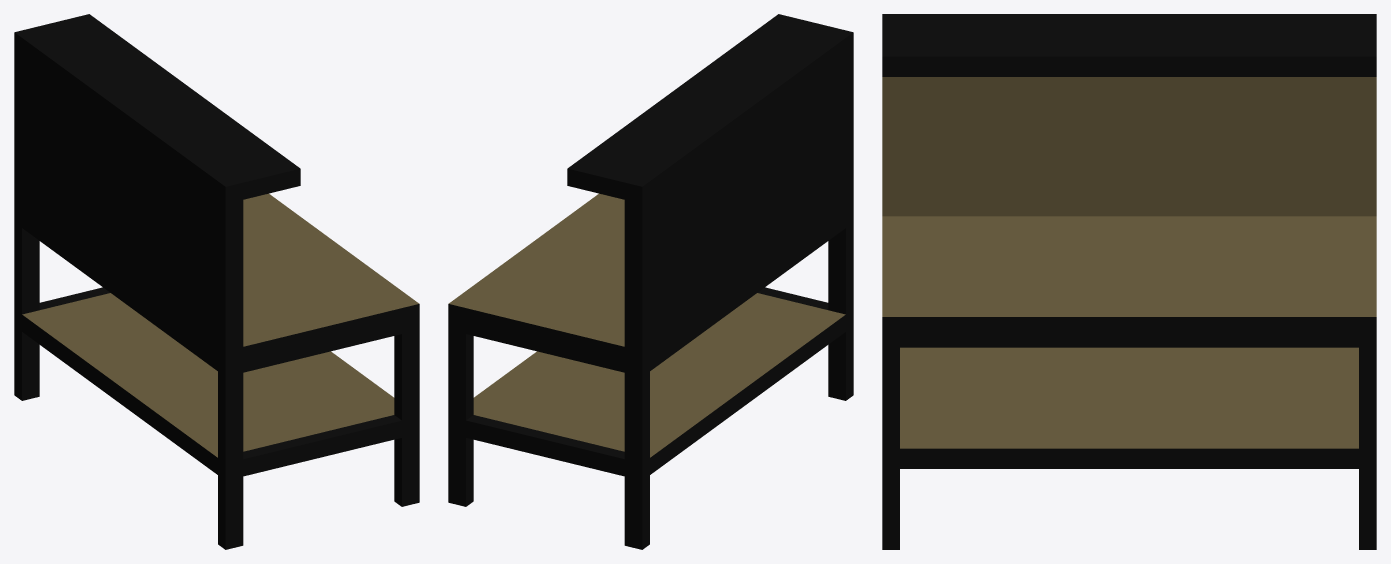
File: mesaTrabajo.FBX
3 views of the same model, side by side, from view 1: azimuth 30°, elevation 25°; view 2: azimuth 150°, elevation 25°; view 3: azimuth 270°, elevation 25° (orthographic). The views are drawn at different scales.
Visible parts, largest first — view 1: Cube.003; view 2: Cube.003; view 3: Cube.003.
Part boxes in pixels (bbox=[...]): Cube.003: bbox=[14, 14, 419, 549]; Cube.003: bbox=[448, 14, 853, 549]; Cube.003: bbox=[882, 14, 1376, 549].
Size of the model in its own units: 86.61 by 155 by 163.
